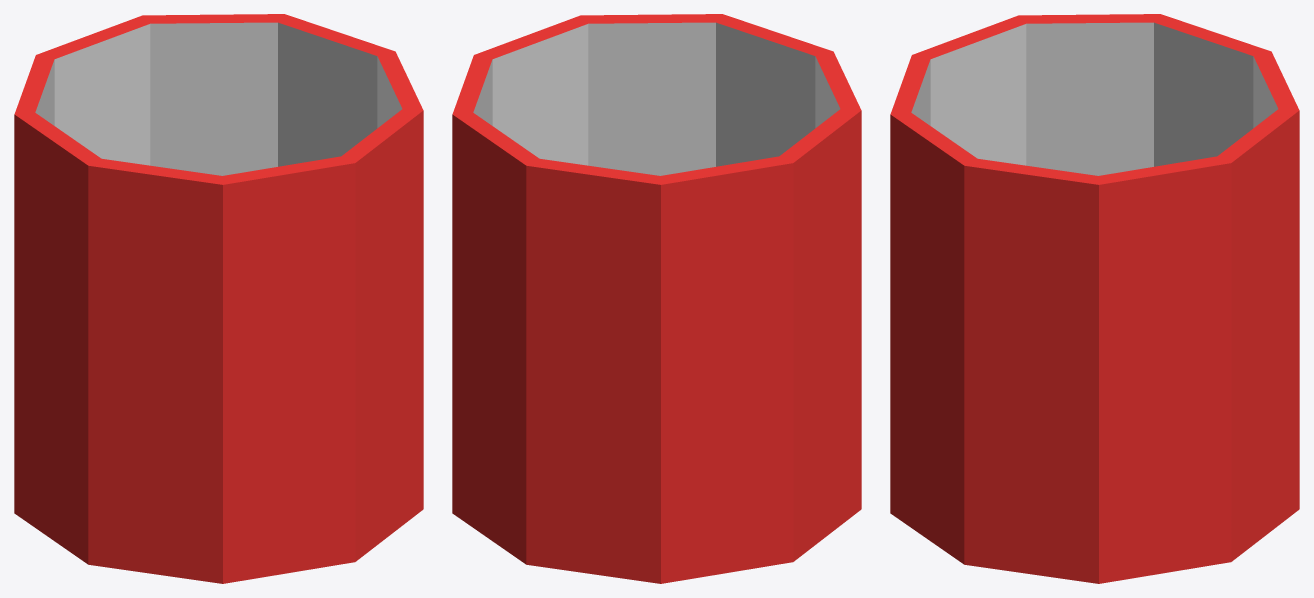
File: mug.fbx
3 views of the same model, side by side, from view 1: azimuth 30°, elevation 25°; view 2: azimuth 150°, elevation 25°; view 3: azimuth 270°, elevation 25° (orthographic).
Visible parts, largest first — view 1: mug_export; view 2: mug_export; view 3: mug_export.
Part boxes in pixels (x1,y1,x2,y2): mug_export: (14,14,423,583); mug_export: (452,14,861,583); mug_export: (890,14,1299,583).
Bounding box in the file's own units: 20.57 × 22.39 × 20.8.
